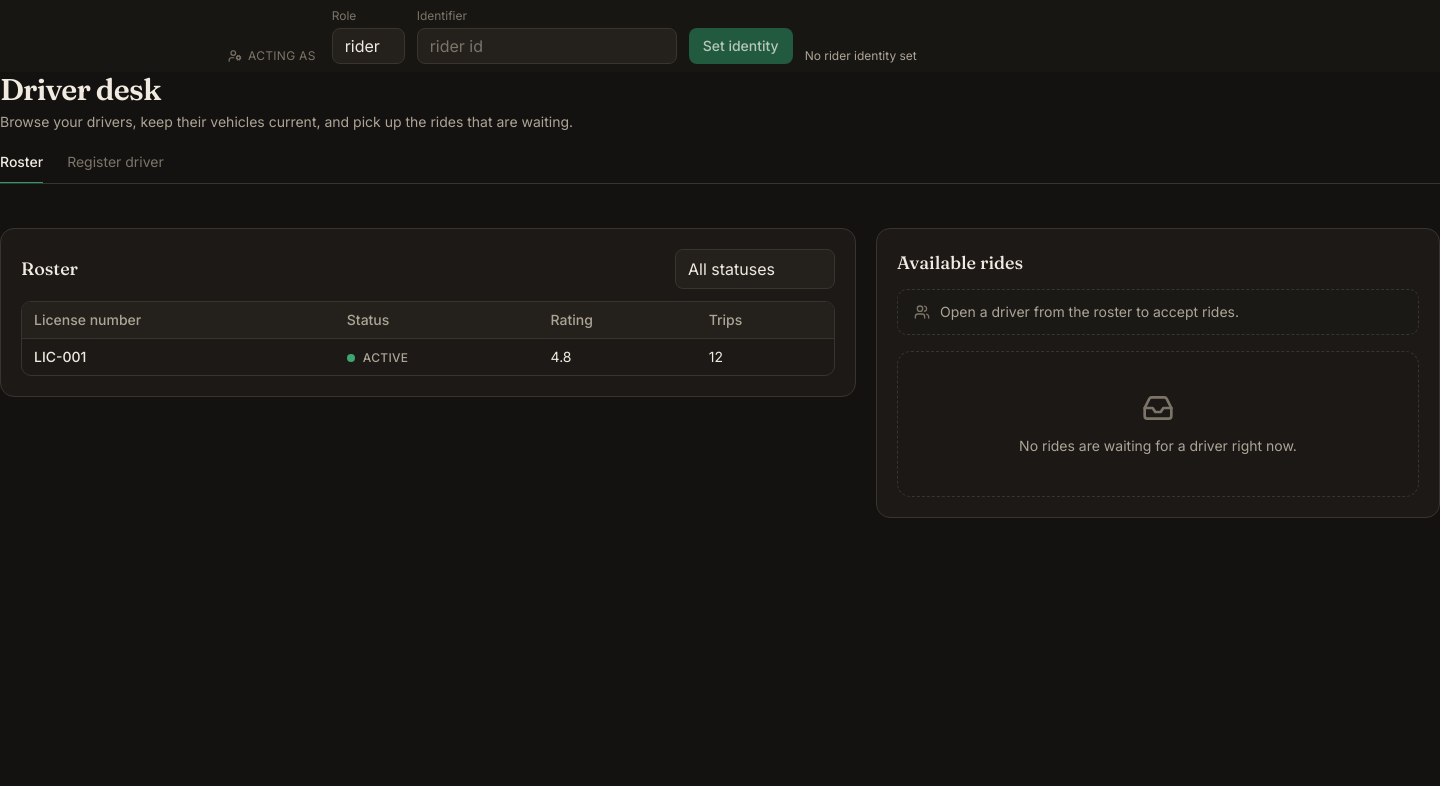
Scenario: Feature: ridenow-frontend, driver roster › blocks add-vehicle submission when required fields are missing
This screenshot has width=1440, height=786.
Click the button with aria-label "Open driver LIC-001" at [60, 356], box [22, 338, 834, 375]
(page scrolled)
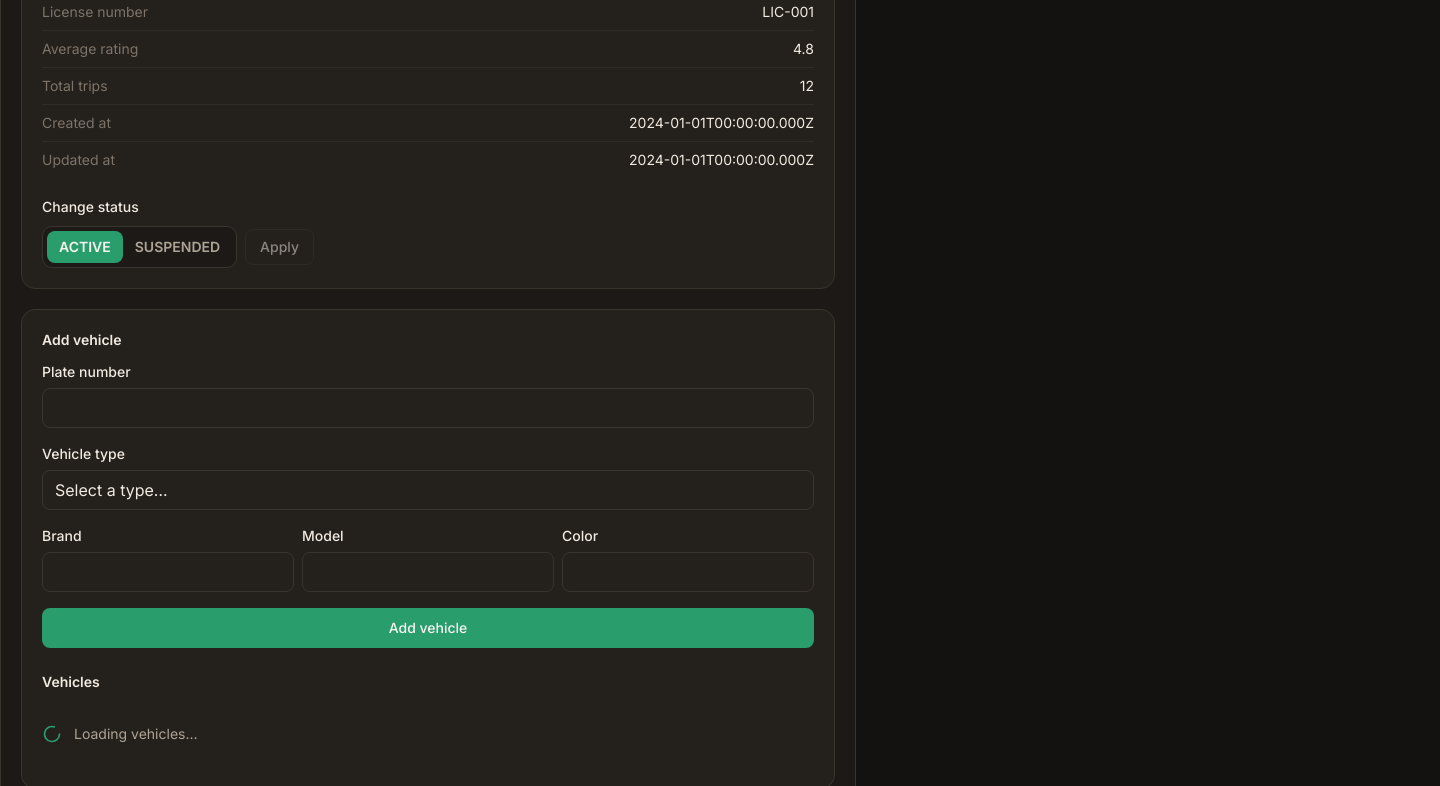
Note: Submit the add-vehicle form with no plate/type.
Click the button "Add vehicle" at [428, 628], box [42, 608, 814, 648]
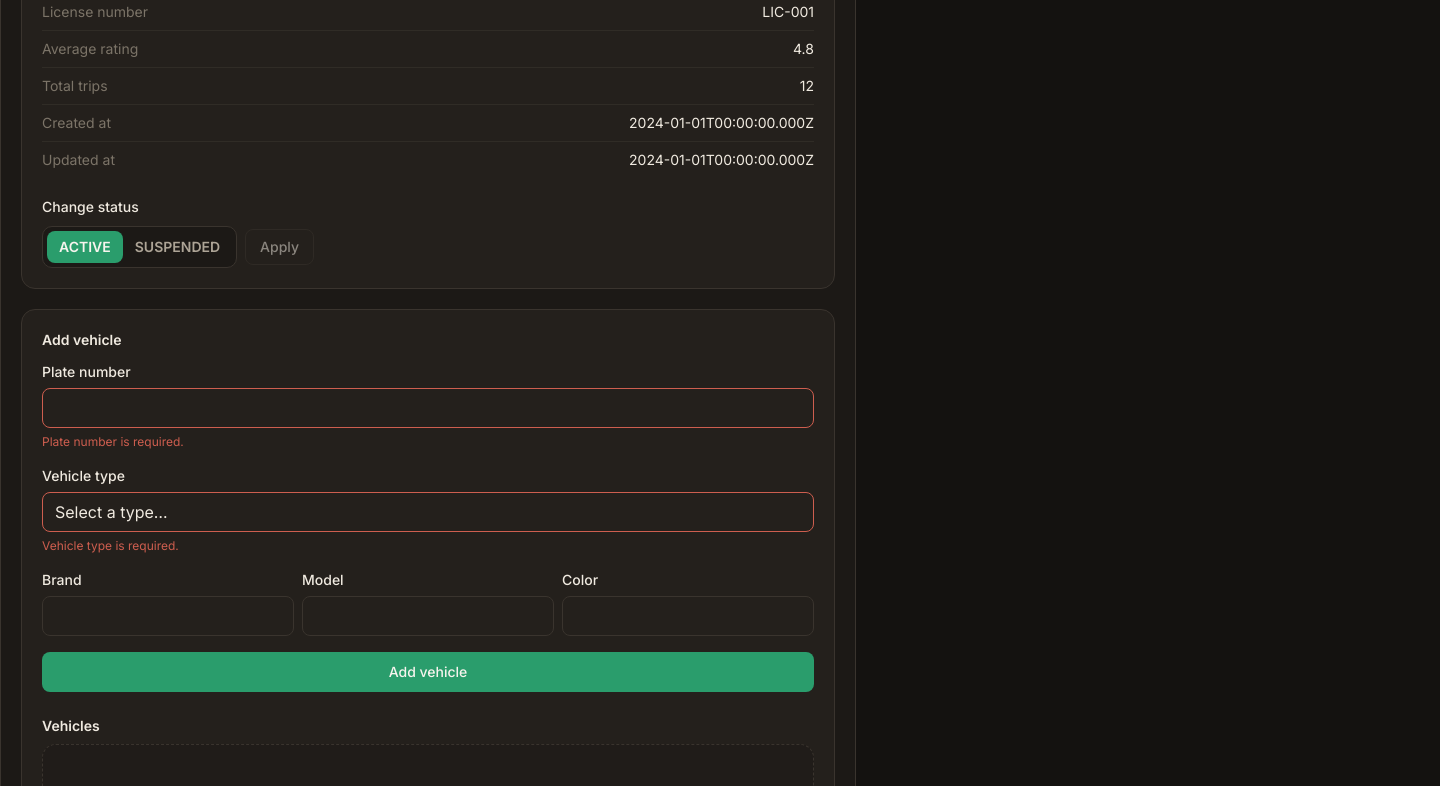
Expected: the text "Plate number is required." is shown, [42, 434, 184, 449]
Expected: the text "Vehicle type is required." is shown, [42, 538, 179, 553]
